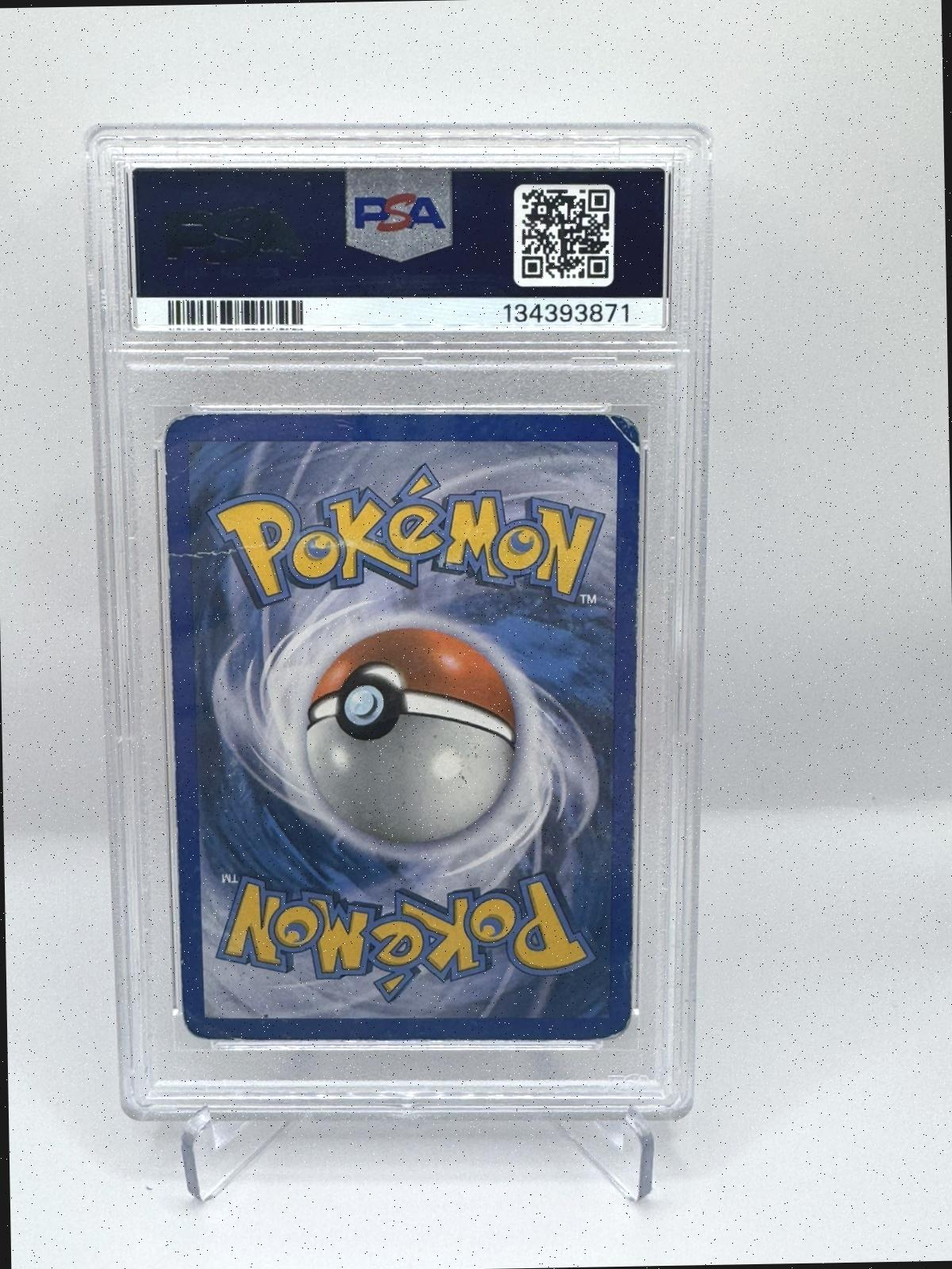card-2UtV: (161, 412, 641, 1042)
